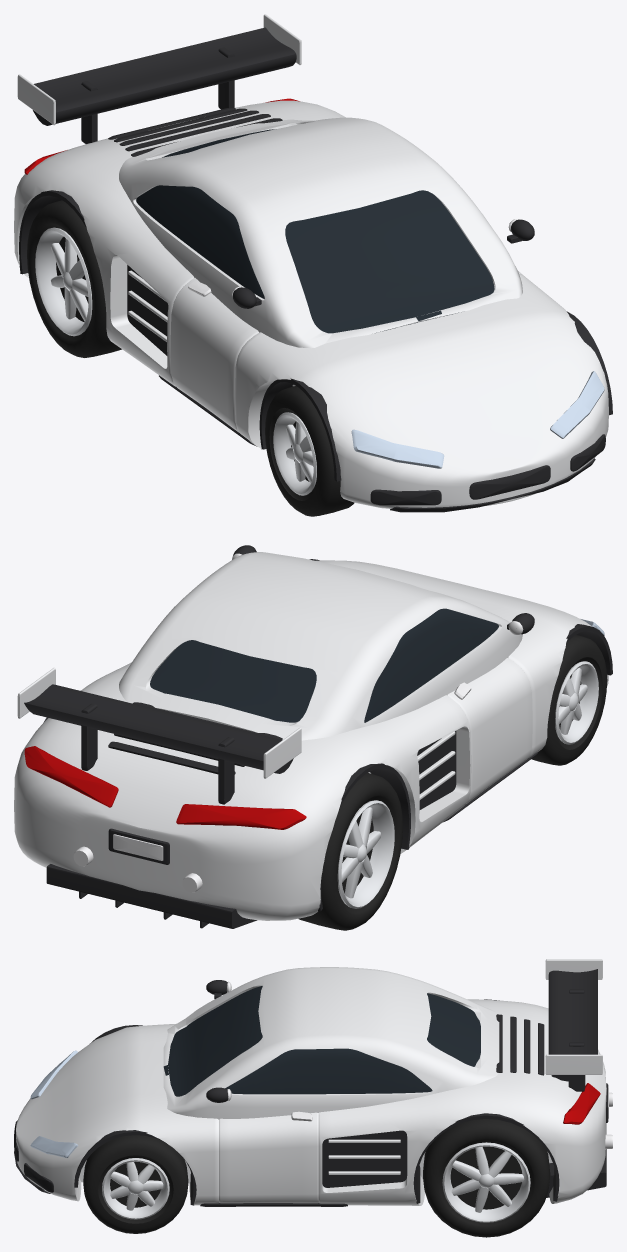
File: supercar.glb
3 views of the same model, one above another, from view 1: azimuth 30°, elevation 25°; view 2: azimuth 150°, elevation 25°; view 3: azimuth 270°, elevation 25° (orthographic). The views are drawn at different scales.
Visible parts, largest first — view 1: body, glass, trim, wheel-back-right, wheel-front-right, lights; view 2: body, trim, glass, wheel-back-right, wheel-front-right, lights; view 3: body, glass, trim, wheel-back-left, wheel-front-left, lights.
Part boxes in pixels (x1,y1,x2,y2): body: (14, 14, 608, 508); glass: (136, 129, 494, 333); trim: (19, 27, 612, 512); wheel-back-right: (27, 200, 121, 357); wheel-front-right: (265, 386, 354, 516); lights: (24, 98, 604, 468); body: (14, 552, 608, 920); trim: (24, 545, 612, 928); glass: (150, 608, 498, 722); wheel-back-right: (298, 773, 402, 930); wheel-front-right: (531, 635, 607, 765); lights: (24, 619, 604, 829); body: (16, 959, 606, 1205); glass: (163, 986, 480, 1096); trim: (14, 969, 612, 1206); wheel-back-left: (423, 1119, 550, 1237); wheel-front-left: (83, 1135, 188, 1233); lights: (30, 1050, 600, 1157).
Bounding box in the file's own units: 1.54 × 1.1 × 3.25.
